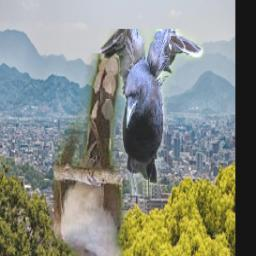Crow: (99, 29, 203, 196)
Cuckoo: (53, 53, 140, 256)
